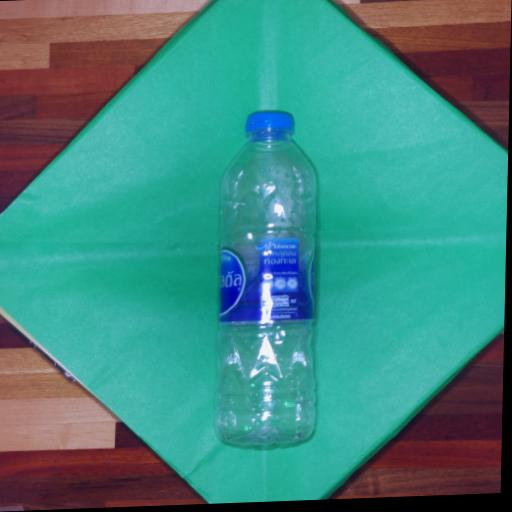bottle: (211, 108, 327, 450)
